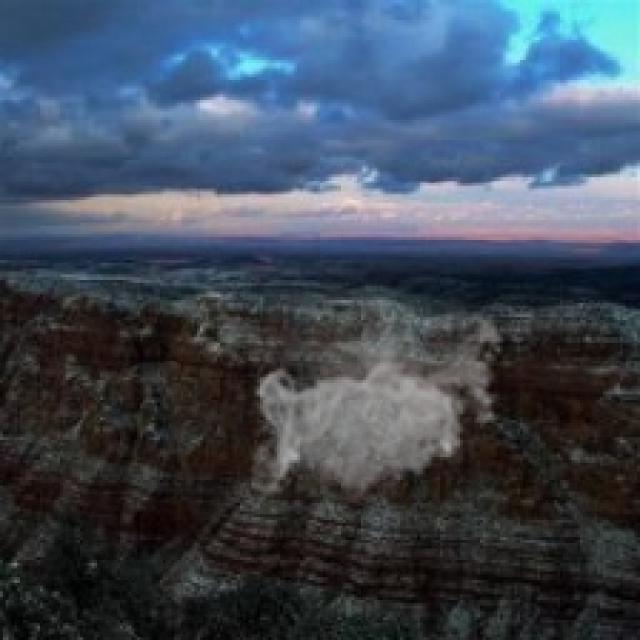smoke: (252, 294, 512, 506)
